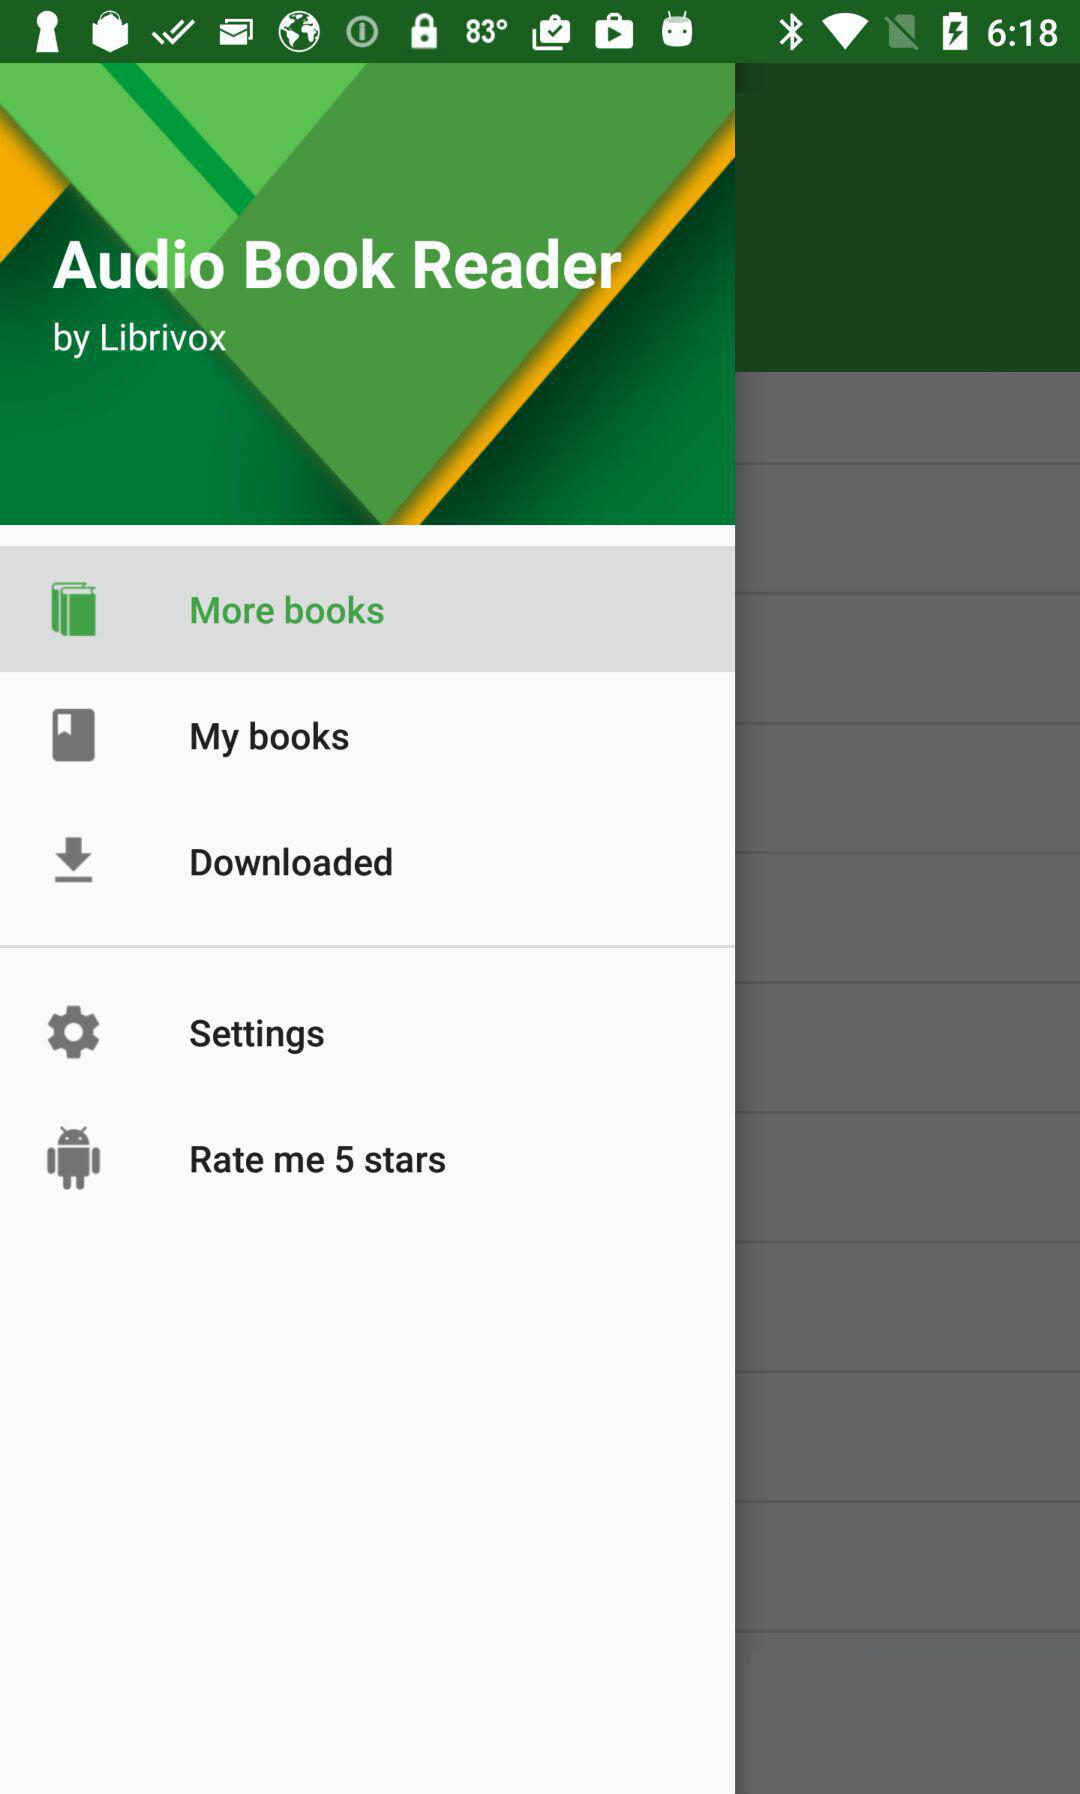Drawer: (1, 64, 734, 1794)
Icon: (47, 1005, 102, 1061), (51, 580, 99, 639), (53, 709, 97, 764), (53, 837, 95, 884)
Image: (46, 1125, 102, 1190)
Text: (53, 237, 623, 292), (191, 1144, 448, 1175), (190, 846, 395, 879), (53, 322, 228, 360), (191, 595, 386, 627), (190, 720, 350, 759), (190, 1017, 325, 1056)
UpperTaskBar: (1, 1, 1080, 64)
